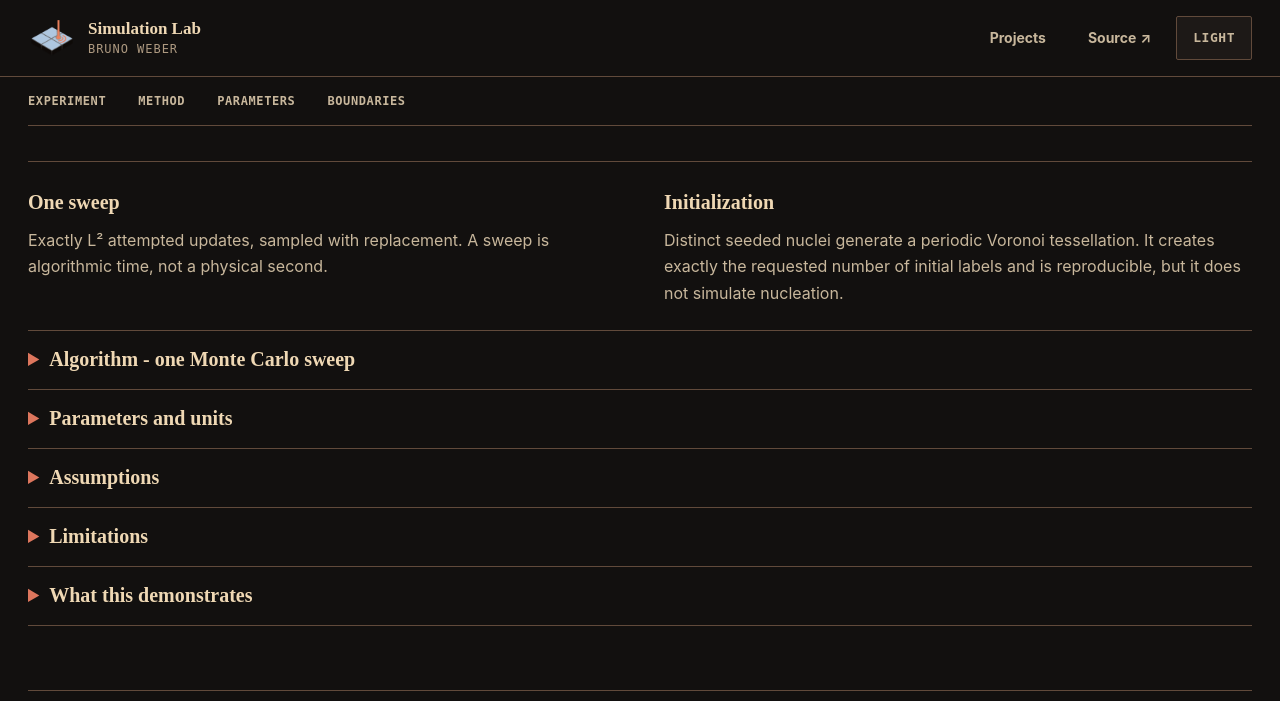
Bruno Weber - Simulation Lab › preserves the V5 scientific hierarchy and reveals technical details on request
(page scrolled)
Click the heading "Algorithm - one Monte Carlo sweep" at (202, 359), box left=49, top=348, right=355, bottom=370
(page scrolled)
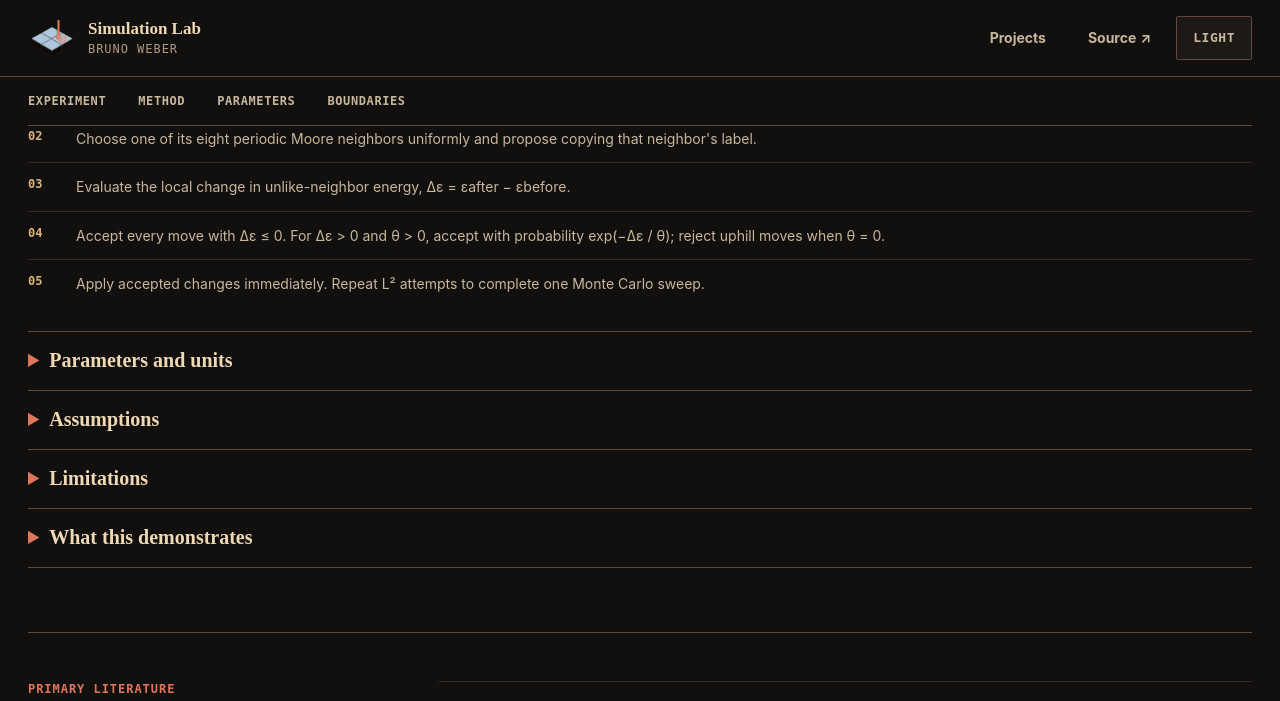
Click the heading "Parameters and units" at (141, 360), box left=49, top=349, right=232, bottom=371
(page scrolled)
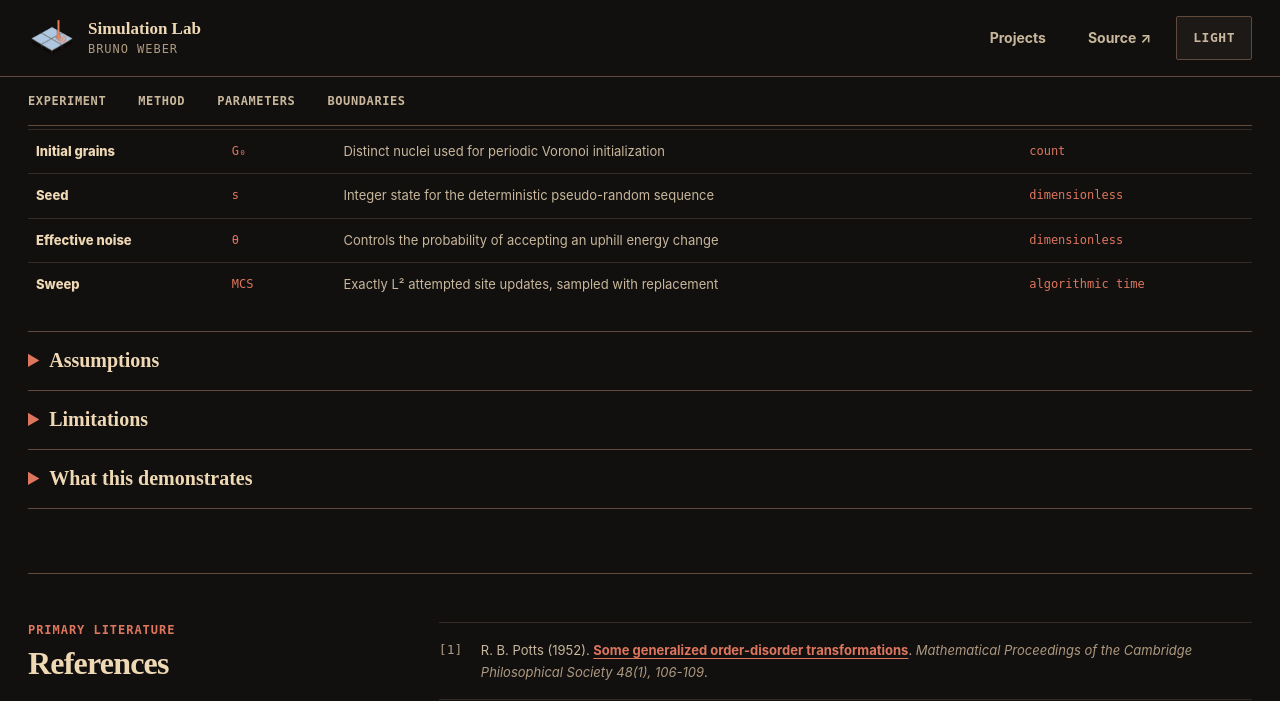
Check: the number of rows is 6, box left=28, top=43, right=1252, bottom=85; left=28, top=85, right=1252, bottom=129; left=28, top=129, right=1252, bottom=174; left=28, top=174, right=1252, bottom=218; left=28, top=218, right=1252, bottom=263; left=28, top=263, right=1252, bottom=307
Click the heading "Assumptions" at (104, 360), box left=49, top=349, right=159, bottom=371
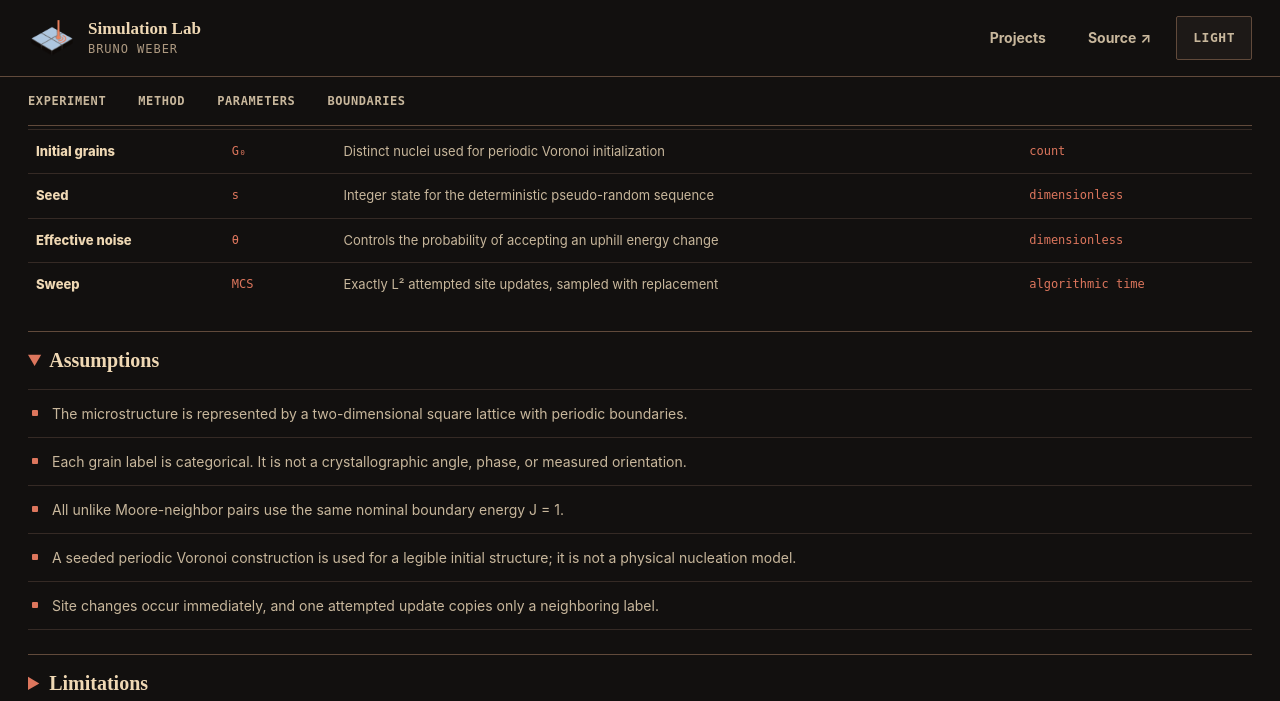
Check: the text "Assumptions" has attribute open, box left=28, top=332, right=1252, bottom=655
Click the heading "Limitations" at (99, 683), box left=49, top=672, right=148, bottom=694
(page scrolled)
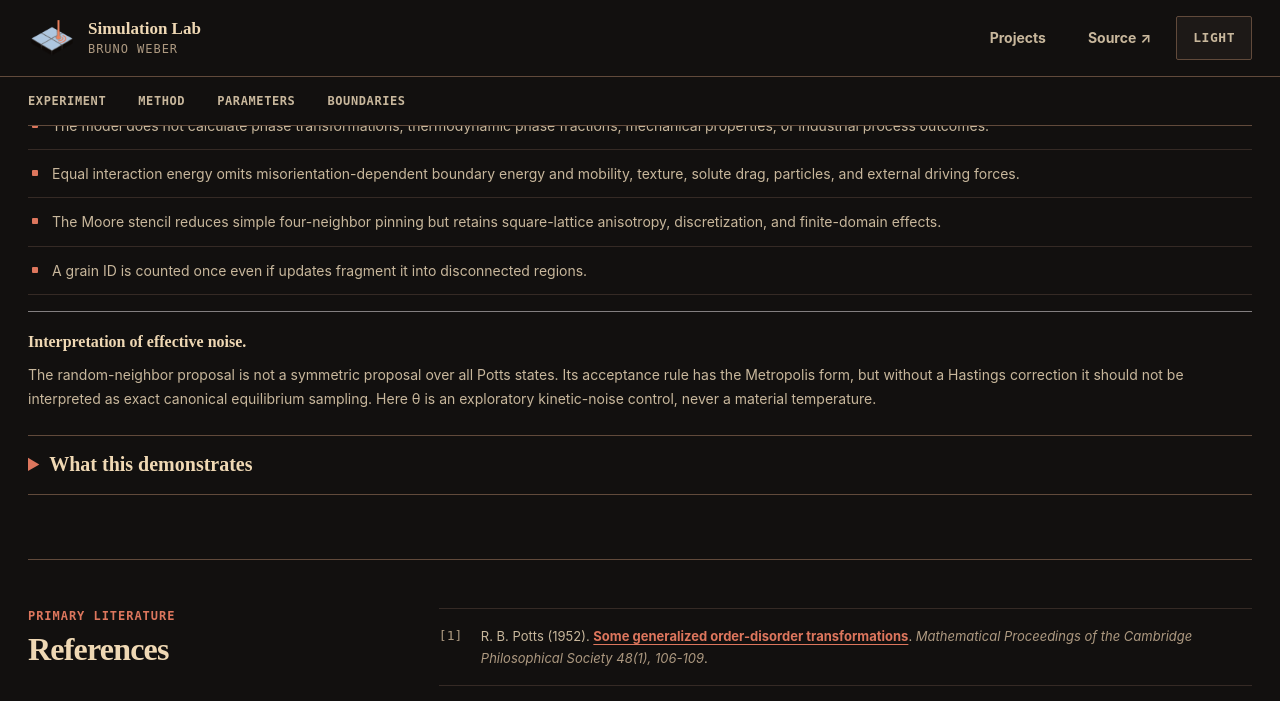
Check: the element that starts with "Interpretation of effective noise." is shown, box left=28, top=311, right=1252, bottom=411
